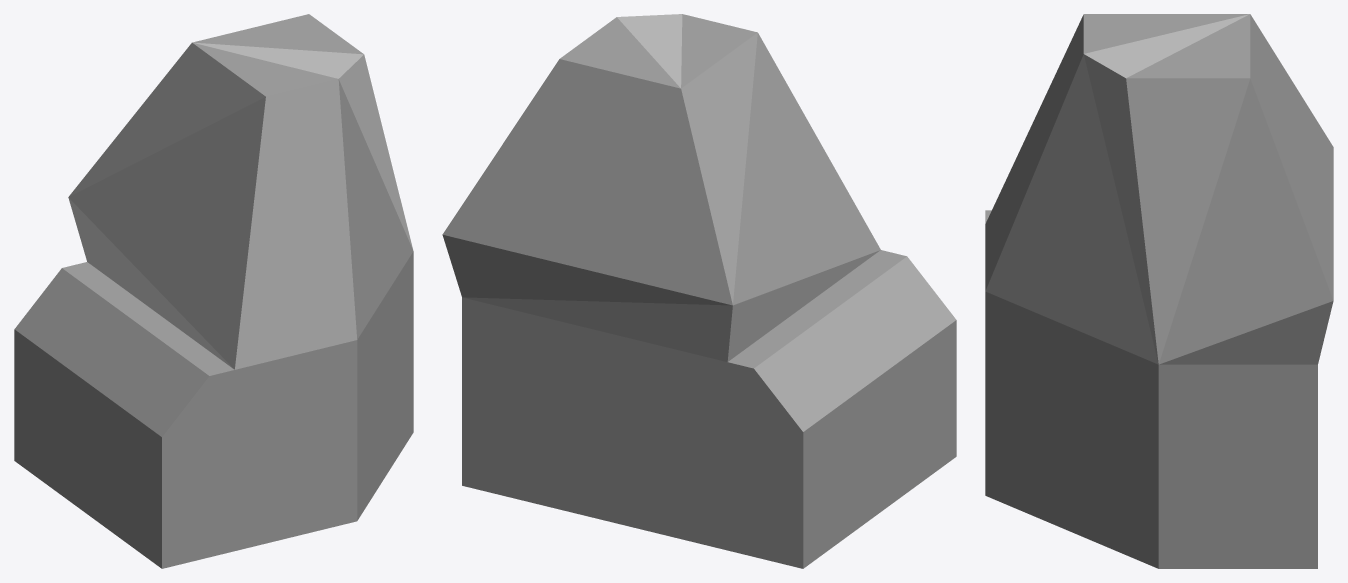
Rendered from rock_4.fbx.
The picture shows the model from 3 angles, left to right: view 1: azimuth 30°, elevation 25°; view 2: azimuth 150°, elevation 25°; view 3: azimuth 270°, elevation 25°; orthographic projection. The views are drawn at different scales.
Visible parts, largest first — view 1: rock_4; view 2: rock_4; view 3: rock_4.
Part boxes in pixels (x1=…): rock_4: x1=14, y1=14, x2=413, y2=568; rock_4: x1=442, y1=14, x2=956, y2=568; rock_4: x1=985, y1=14, x2=1333, y2=568.
Bounding box in the file's own units: 70.16 × 79.65 × 55.17.
